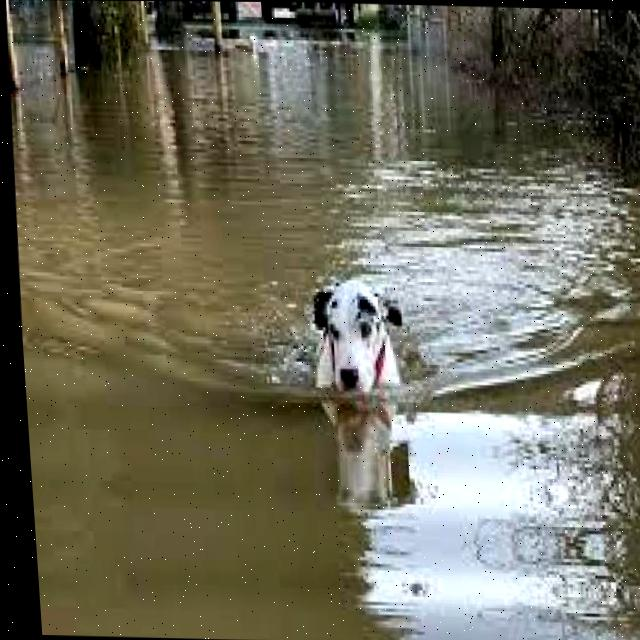dog: (299, 260, 416, 408)
